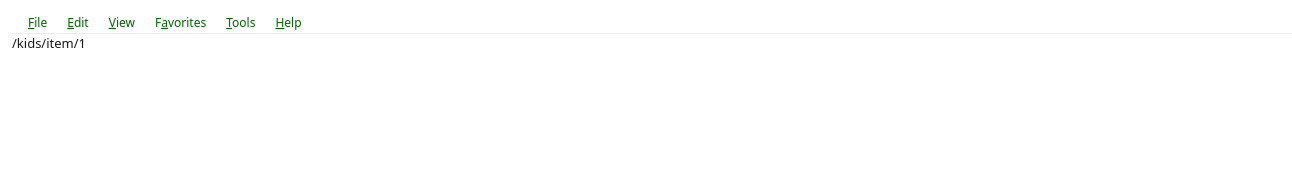
Kids menu bar › Ctrl+L toggles captions and F9 stops reading
The image size is (1292, 172).
Press F9
Press l
Click the button "View" at [122, 22], box [99,13,145,32]
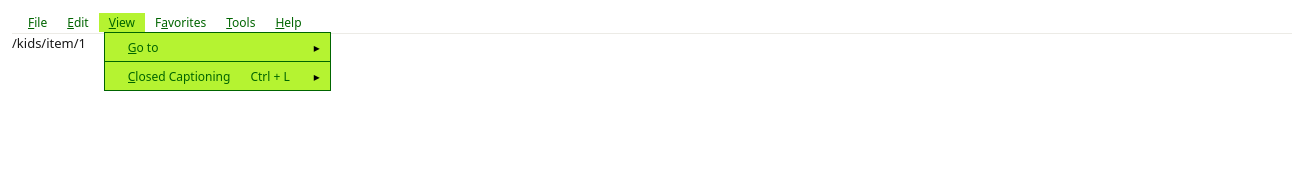
Click the menu item "Closed Captioning Ctrl + L ▸" at [217, 76], box [105,66,330,86]
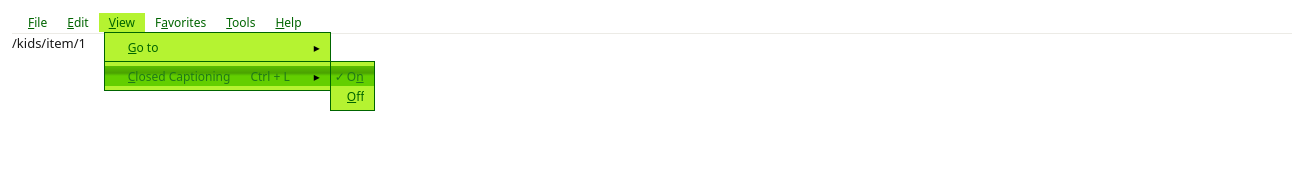
Expected: the menu item "✓ On" is shown, [331,66,374,86]
